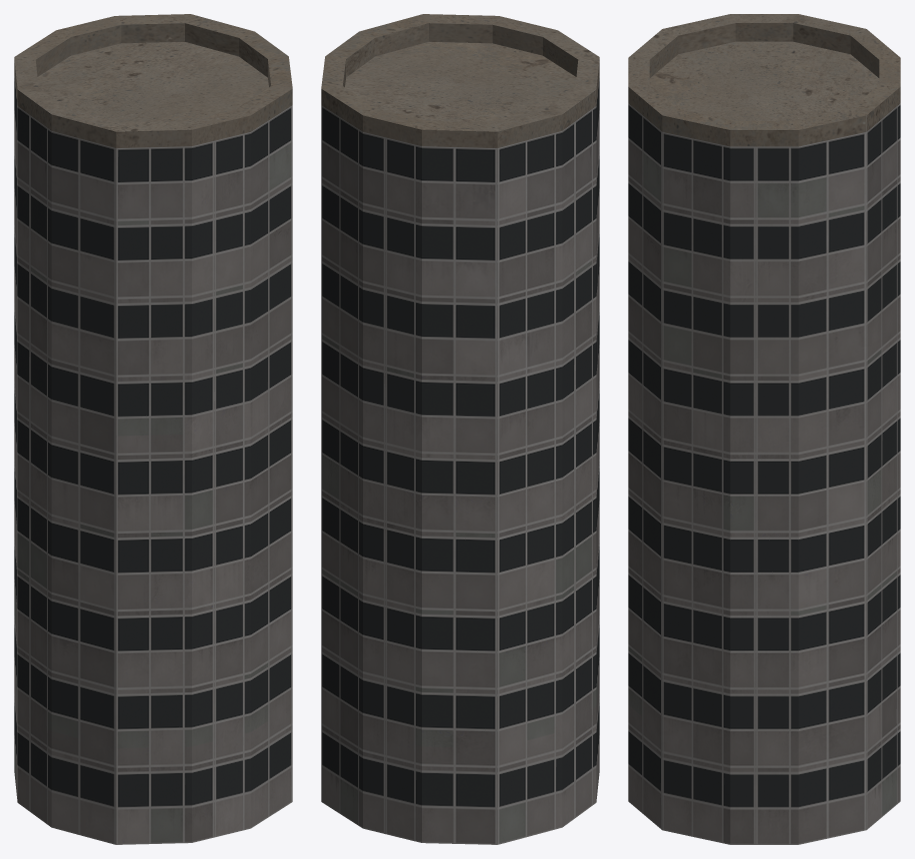
Rendered from Circle tower.fbx.
3 views of the same model, side by side, from view 1: azimuth 30°, elevation 25°; view 2: azimuth 150°, elevation 25°; view 3: azimuth 270°, elevation 25° (orthographic).
Parts seen in each view (by area): view 1: Cube; view 2: Cube; view 3: Cube.
Boxes of the visible parts, box(x1,y1,x2,y2) form: Cube: box(14, 14, 292, 844); Cube: box(321, 14, 599, 844); Cube: box(628, 14, 900, 844).
Size of the model in its own units: 802 by 2303 by 795.
